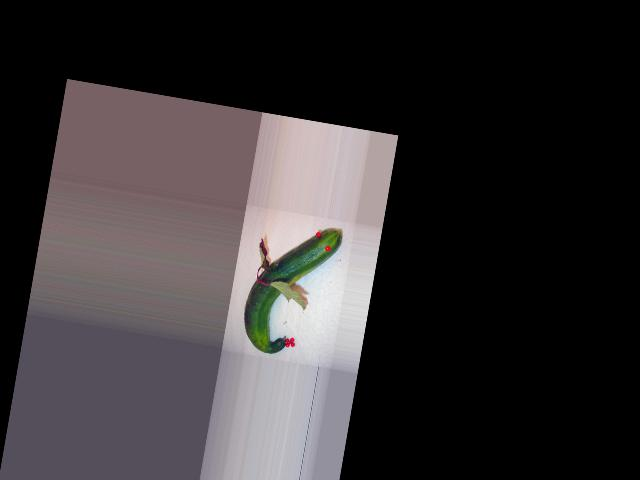cucumber: (238, 217, 343, 362)
